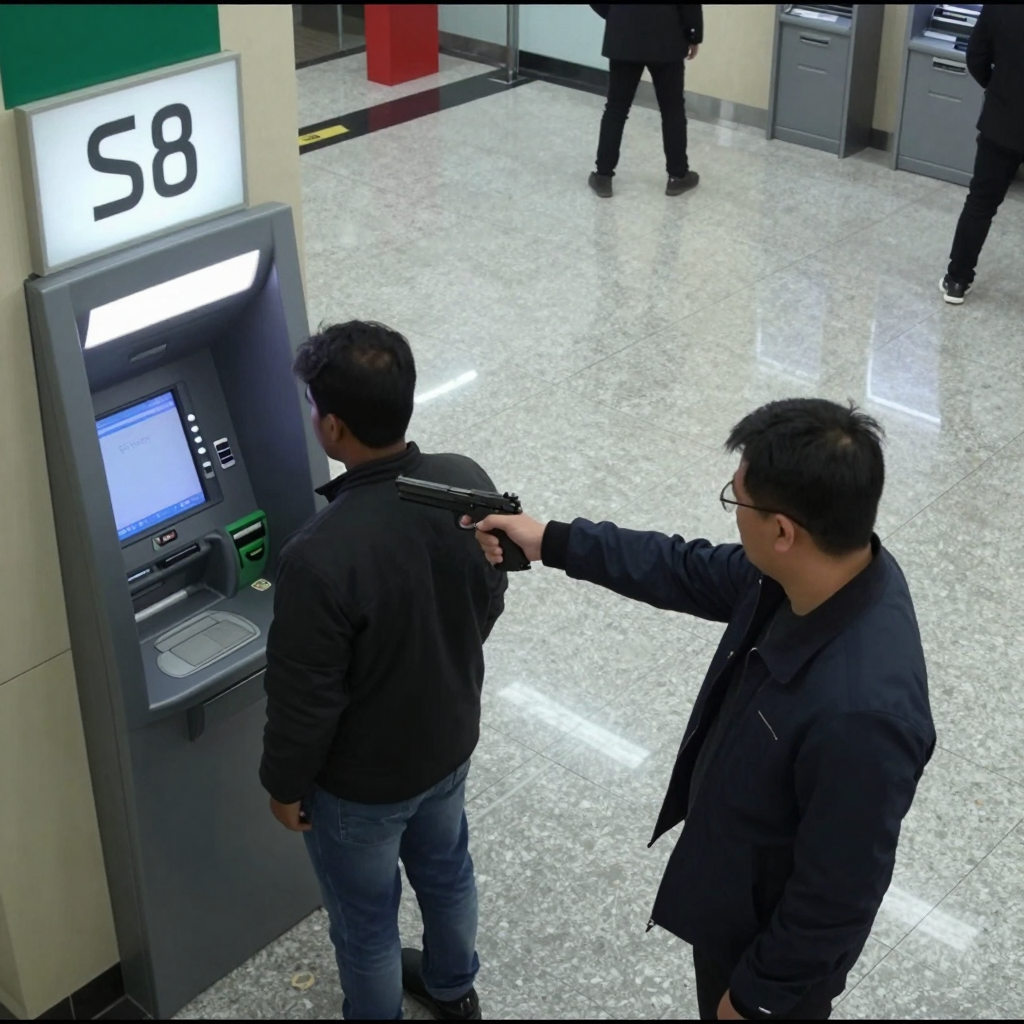Robbery: (466, 396, 938, 1021), (257, 318, 511, 1020)
Shooting: (394, 474, 530, 572)
